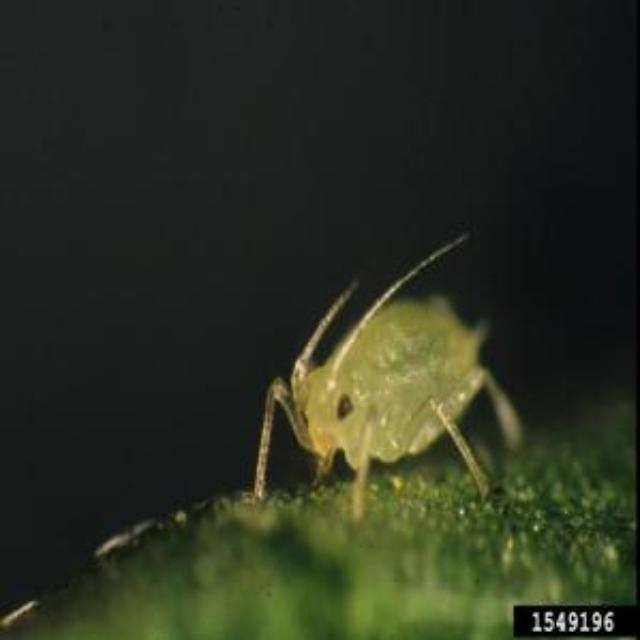Green peach aphid: (222, 208, 560, 548)
